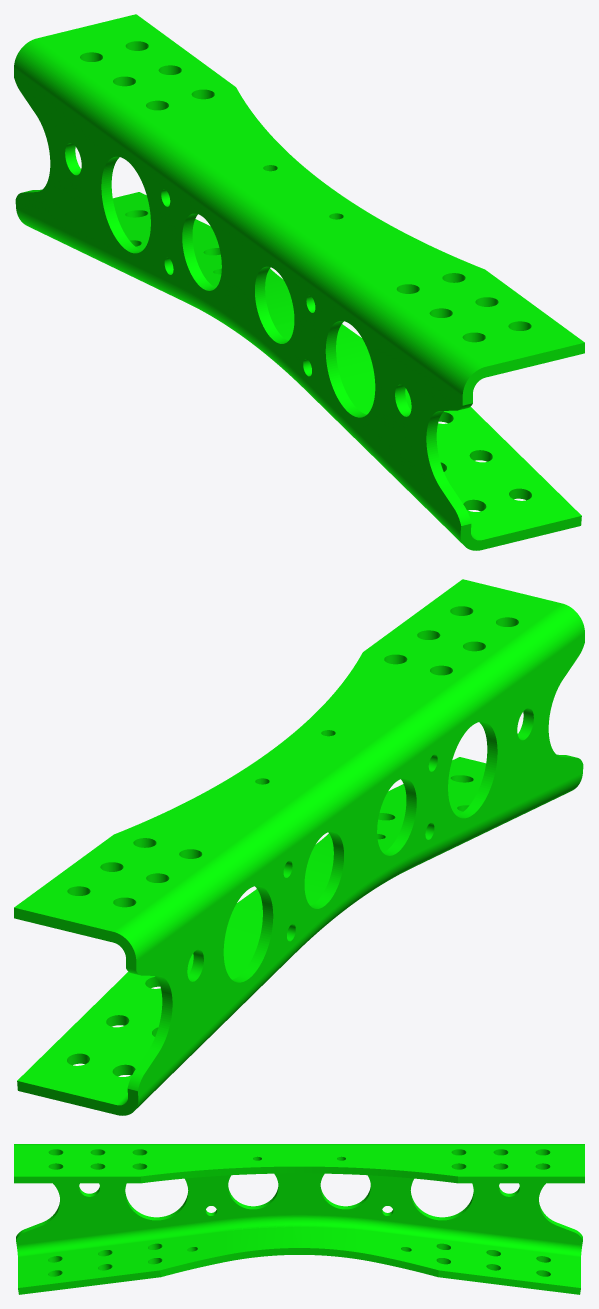
The picture shows the model from 3 angles, top to bottom: view 1: azimuth 30°, elevation 25°; view 2: azimuth 150°, elevation 25°; view 3: azimuth 270°, elevation 25°; orthographic projection. The views are drawn at different scales.
Visible parts, largest first — view 1: Node1; view 2: Node1; view 3: Node1.
Part boxes in pixels (x1=…): Node1: x1=14, y1=14, x2=584, y2=550; Node1: x1=14, y1=579, x2=584, y2=1115; Node1: x1=14, y1=1144, x2=584, y2=1294.
Size of the model in its own units: 107 by 156 by 680.
